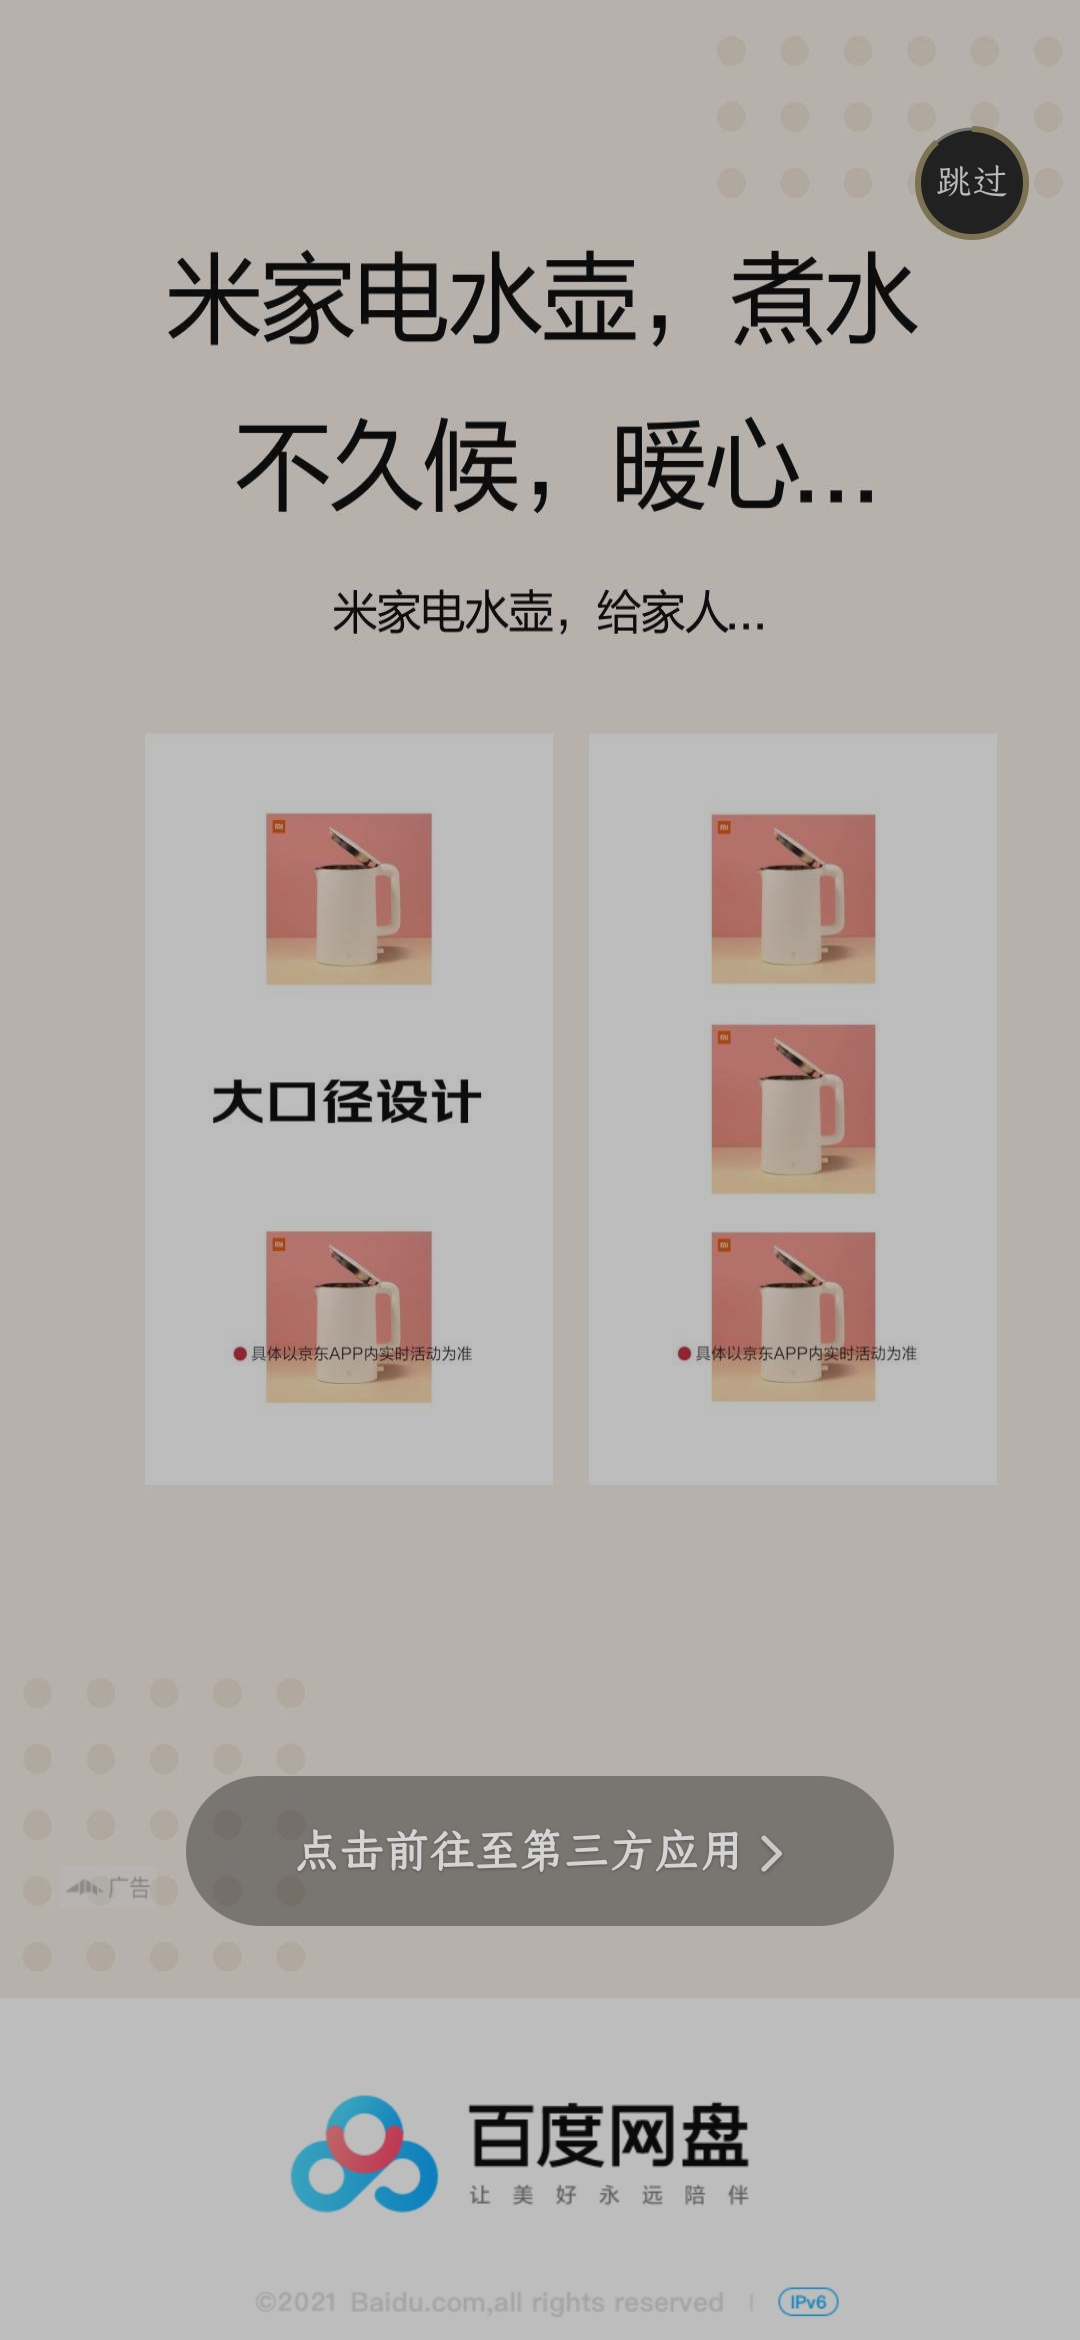skip: (920, 130, 1038, 240)
